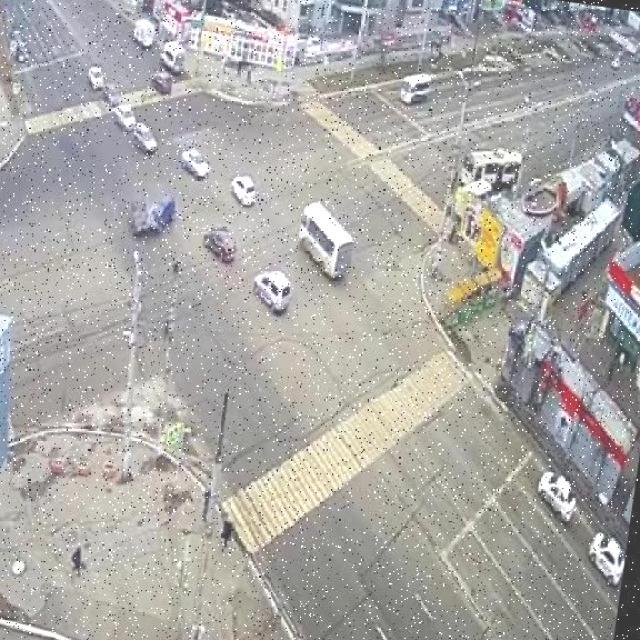accident: (126, 187, 180, 244)
